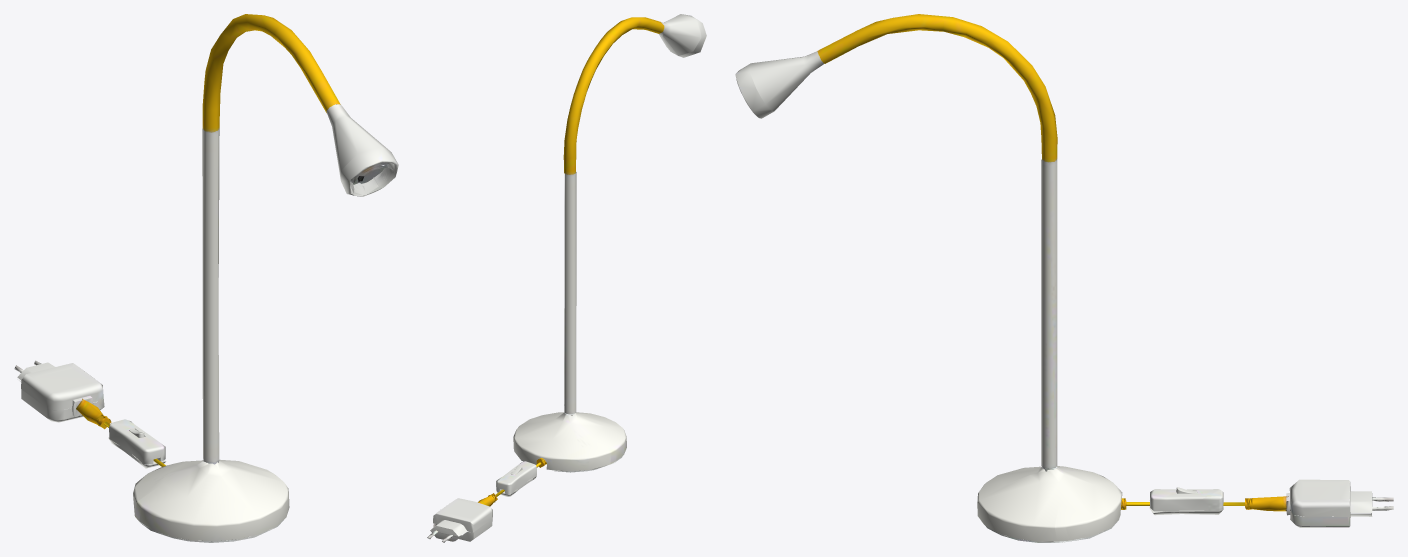
The model's file is 08 - NÄVLINGE LED desk lamp - yellowwhite.glb.
3 renders of one model, left to right at view 1: azimuth 30°, elevation 25°; view 2: azimuth 150°, elevation 25°; view 3: azimuth 270°, elevation 25°, orthographic. The views are drawn at different scales.
Parts seen in each view (by area): view 1: ASY_ART_80574711_S01_NV01, ASY_LPT01_80574711_S01_NV01; view 2: ASY_ART_80574711_S01_NV01, ASY_LPT01_80574711_S01_NV01; view 3: ASY_ART_80574711_S01_NV01, ASY_LPT01_80574711_S01_NV01.
Boxes of the visible parts, bbox=[...] form: ASY_ART_80574711_S01_NV01: bbox=[14, 104, 398, 542]; ASY_LPT01_80574711_S01_NV01: bbox=[202, 14, 340, 132]; ASY_ART_80574711_S01_NV01: bbox=[427, 14, 706, 542]; ASY_LPT01_80574711_S01_NV01: bbox=[563, 17, 664, 174]; ASY_ART_80574711_S01_NV01: bbox=[735, 51, 1393, 542]; ASY_LPT01_80574711_S01_NV01: bbox=[817, 14, 1057, 162].
Size of the model in its own units: 0.12 by 0.4591 by 0.5449.
4 materials, 4 textured.
